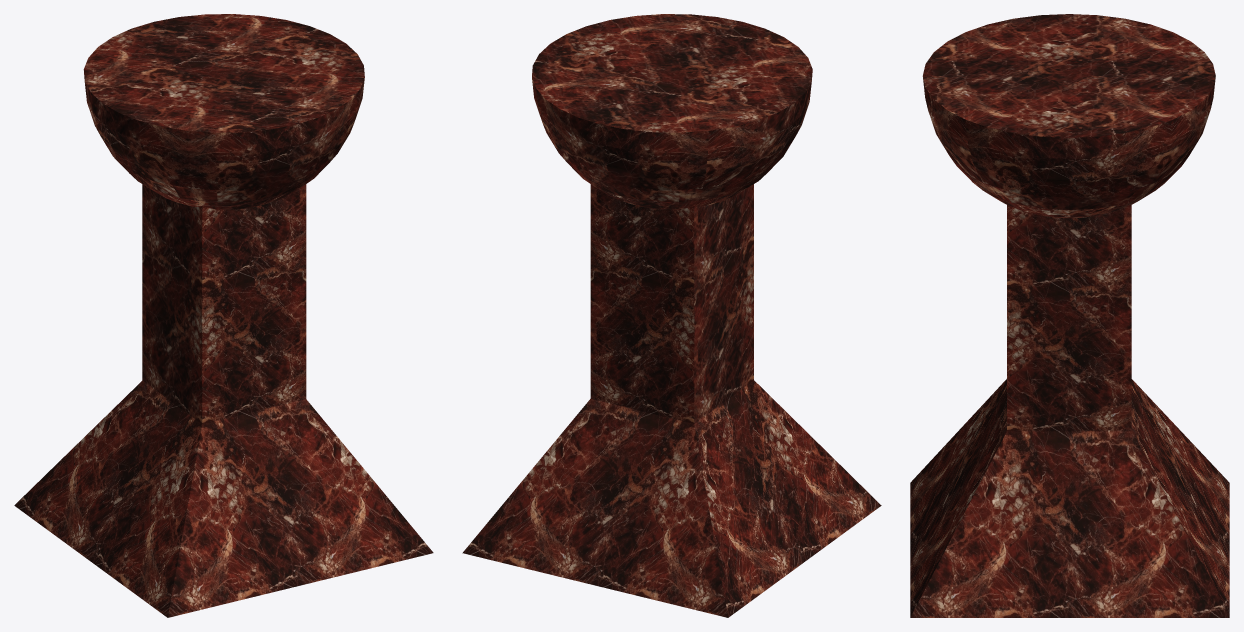
Rendered from podest.obj.
3 renders of one model, left to right at view 1: azimuth 30°, elevation 25°; view 2: azimuth 150°, elevation 25°; view 3: azimuth 270°, elevation 25°, orthographic. The views are drawn at different scales.
Visible parts, largest first — view 1: Podest; view 2: Podest; view 3: Podest.
Part boxes in pixels (bbox=[...]): Podest: bbox=[14, 14, 433, 617]; Podest: bbox=[462, 14, 881, 617]; Podest: bbox=[910, 14, 1229, 617].
Size of the model in its own units: 0.194 by 0.3178 by 0.194.
